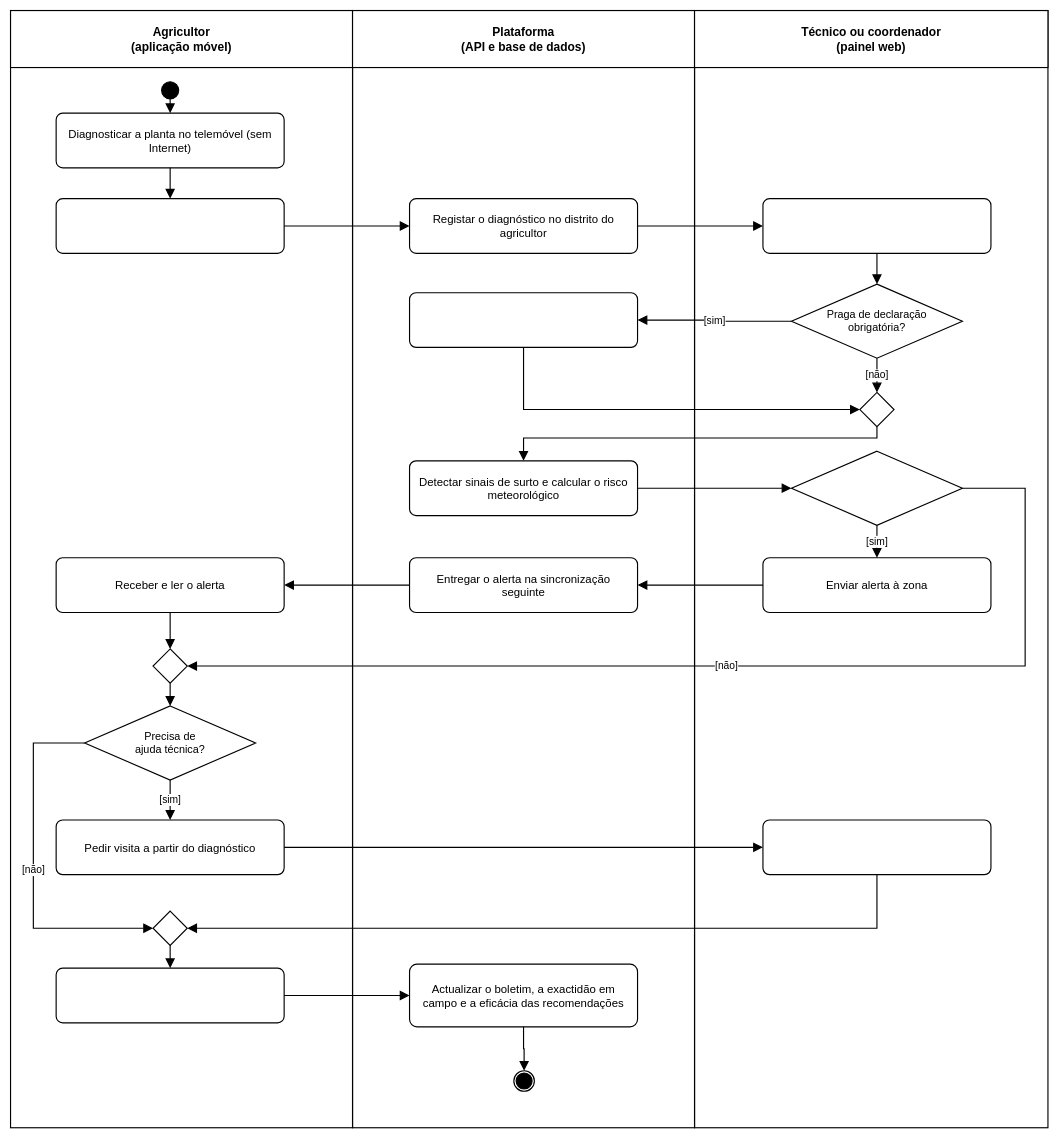
Some shapes in this 1058 by 1138 pixel diagram are drawn without their labels. The box of each missing label's shape, as (x1, y1, x2, y2) in pixels:
Agendar e resolver a visita: (762, 819, 991, 875)
Avisar o coordenador da província e o administrador: (409, 292, 638, 348)
Responder ao seguimento (7 dias depois): (55, 967, 284, 1023)
Sincronizar quando houver Internet: (55, 198, 284, 254)
Surto, risco ou caso confirmado?: (791, 450, 963, 526)
Validar o diagnóstico (confirmar ou corrigir): (762, 198, 991, 254)
